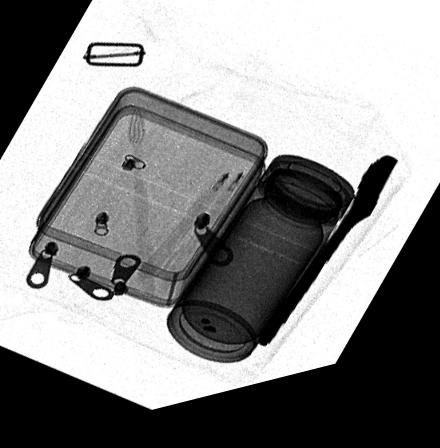Wrench: (255, 169, 400, 363)
